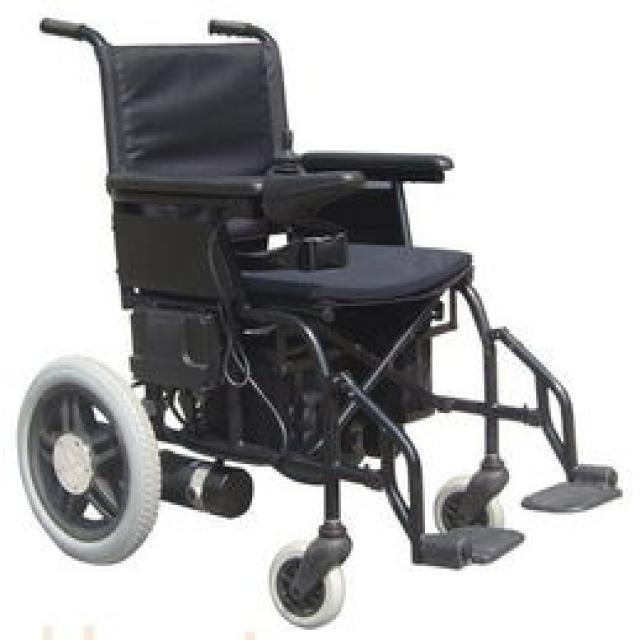wheelchair: (2, 10, 626, 638)
